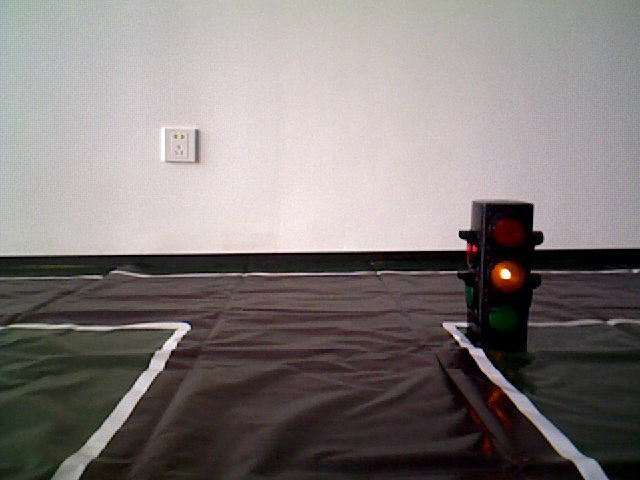yellow: (473, 203, 533, 329)
